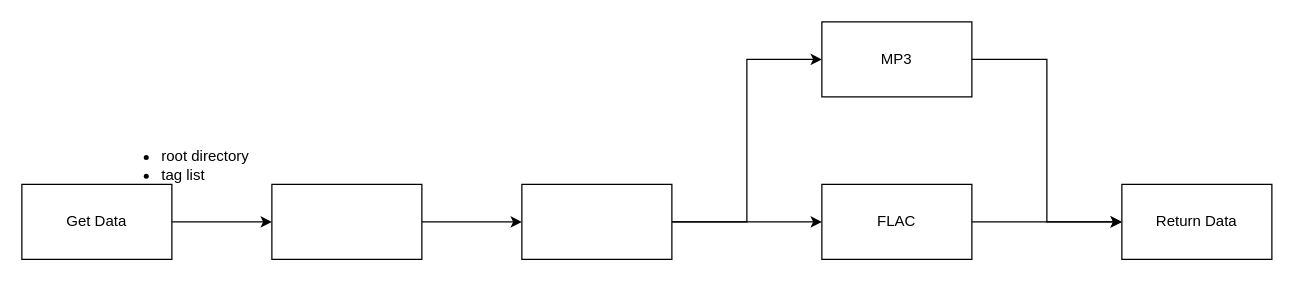
Image size: 1294x281. Some labels were removed from this diagram. Here are the shapes that lost their labels. From the top down, the centre of each, then its label:
point (346, 221): Build File List
point (596, 221): Extract Tags
